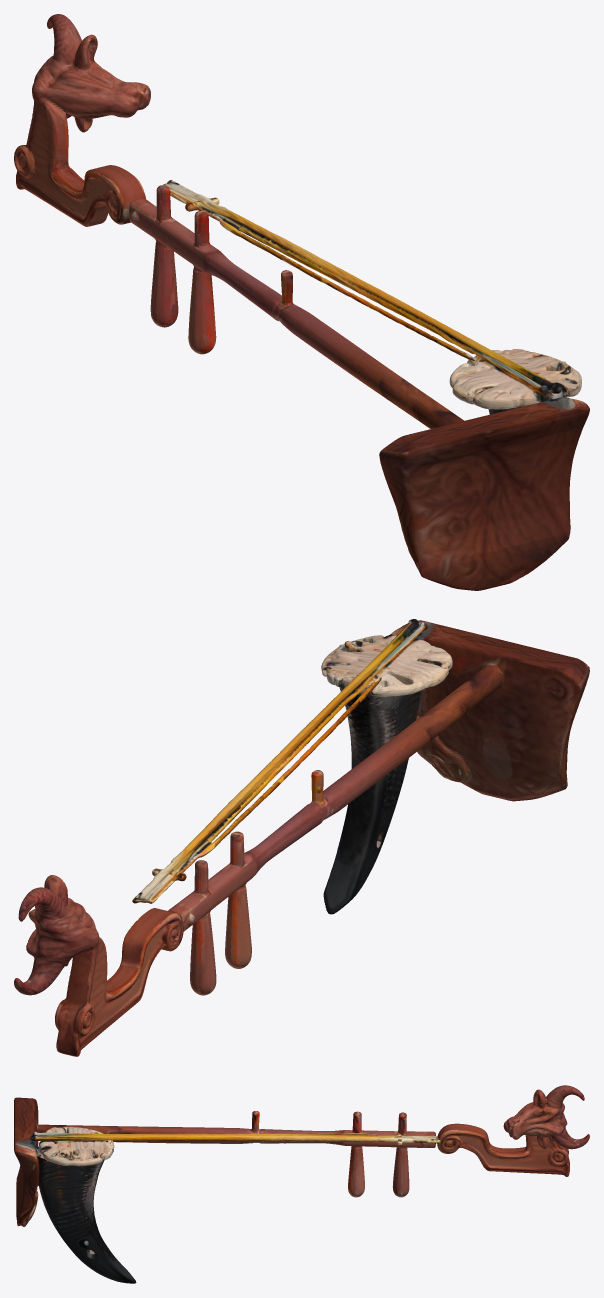
File: niujiaoqin.gltf
The picture shows the model from 3 angles, top to bottom: view 1: azimuth 30°, elevation 25°; view 2: azimuth 150°, elevation 25°; view 3: azimuth 270°, elevation 25°; orthographic projection. The views are drawn at different scales.
Parts seen in each view (by area): view 1: tripo_node_046a4ebe-9f2a-4b69-ba22-16a1d6faf8fe; view 2: tripo_node_046a4ebe-9f2a-4b69-ba22-16a1d6faf8fe; view 3: tripo_node_046a4ebe-9f2a-4b69-ba22-16a1d6faf8fe.
Part boxes in pixels (<box>): tripo_node_046a4ebe-9f2a-4b69-ba22-16a1d6faf8fe: <box>14,14,589,590</box>; tripo_node_046a4ebe-9f2a-4b69-ba22-16a1d6faf8fe: <box>14,619,589,1056</box>; tripo_node_046a4ebe-9f2a-4b69-ba22-16a1d6faf8fe: <box>14,1085,589,1283</box>.
Bounding box in the file's own units: 27.33 × 34.74 × 100.
1 material, 1 textured.
